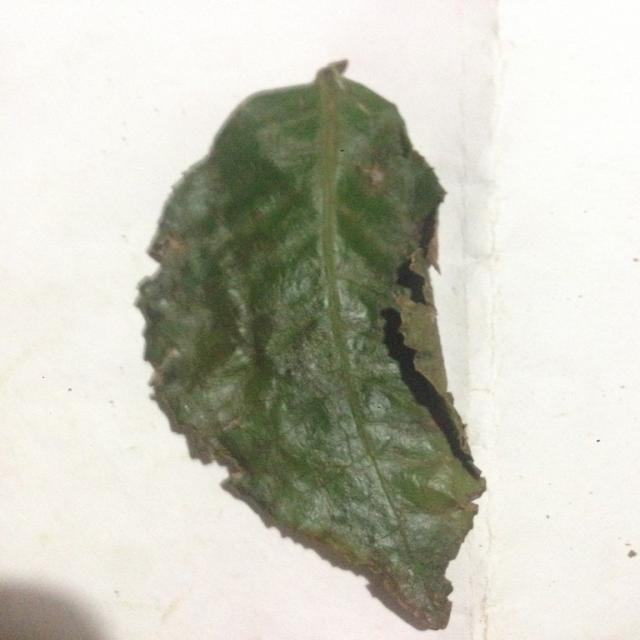Red Leaf Spot: (118, 65, 502, 636)
